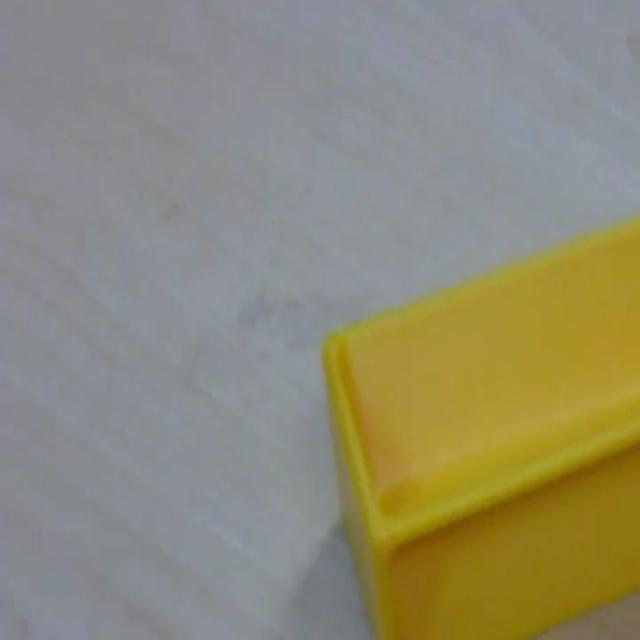yellow_block: (321, 212, 638, 636)
